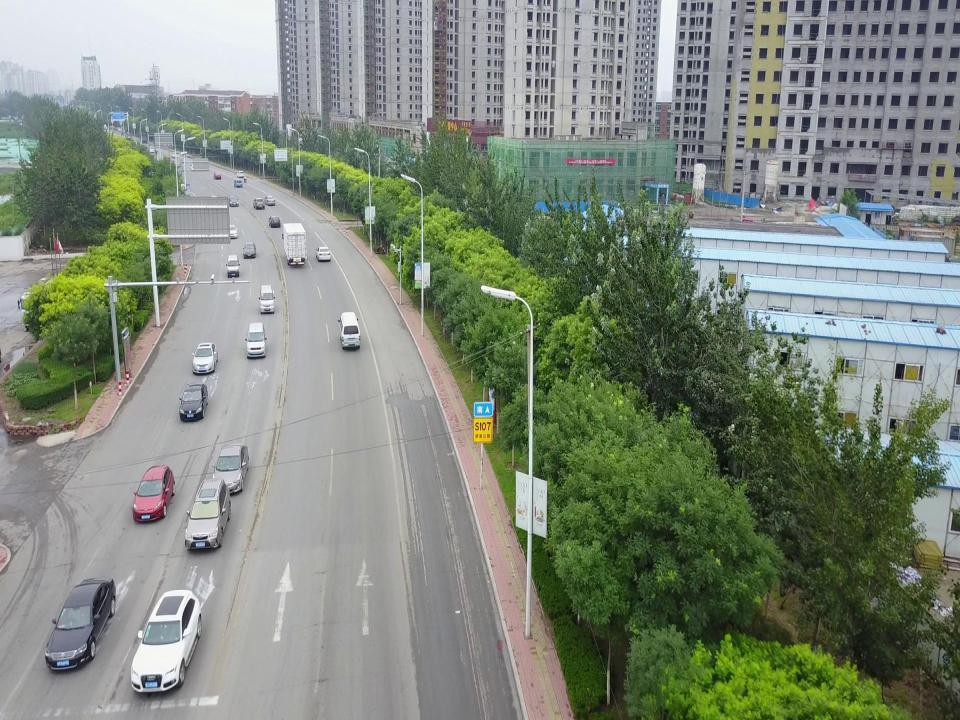car: (129, 590, 203, 690), (45, 575, 117, 673), (132, 464, 175, 524), (210, 442, 250, 492), (178, 384, 210, 422), (192, 342, 218, 373), (315, 246, 331, 262), (242, 242, 257, 258), (223, 224, 238, 239), (253, 196, 265, 209), (269, 216, 281, 228), (227, 197, 239, 207), (264, 196, 276, 206), (234, 179, 242, 188), (212, 172, 222, 179), (170, 151, 178, 159), (188, 164, 197, 171), (238, 171, 244, 178)
truck: (17, 276, 59, 333), (281, 223, 307, 267)
van: (185, 481, 232, 552), (337, 311, 361, 349), (244, 323, 268, 359), (259, 285, 275, 313), (225, 256, 241, 278)
